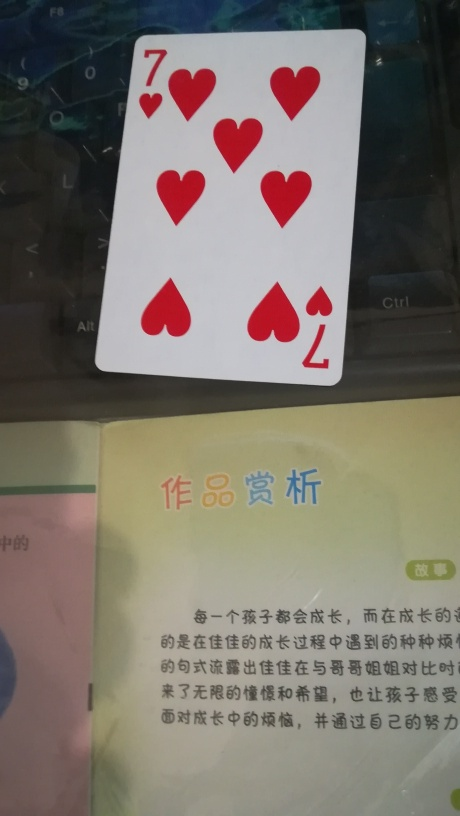hx 7: (99, 29, 366, 388)
